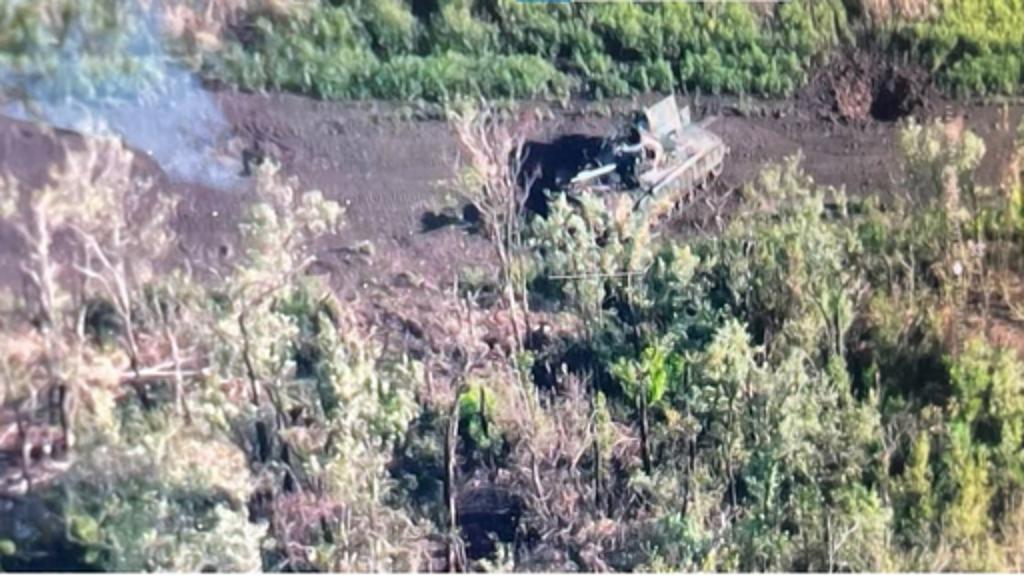APC-IFV: (540, 90, 734, 234)
